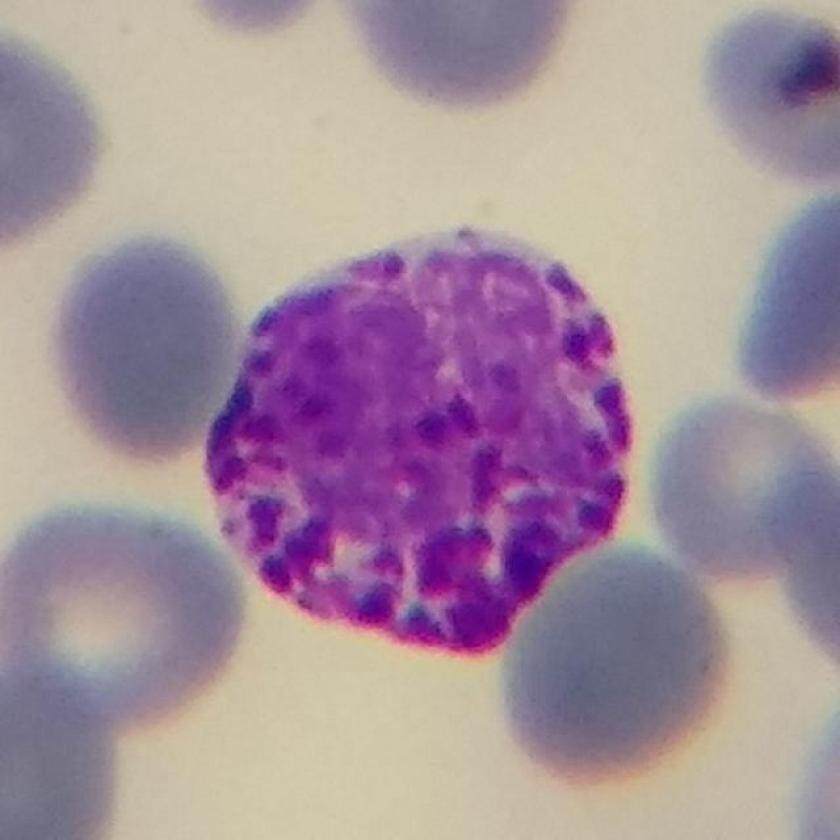basophil: (186, 214, 639, 669)
